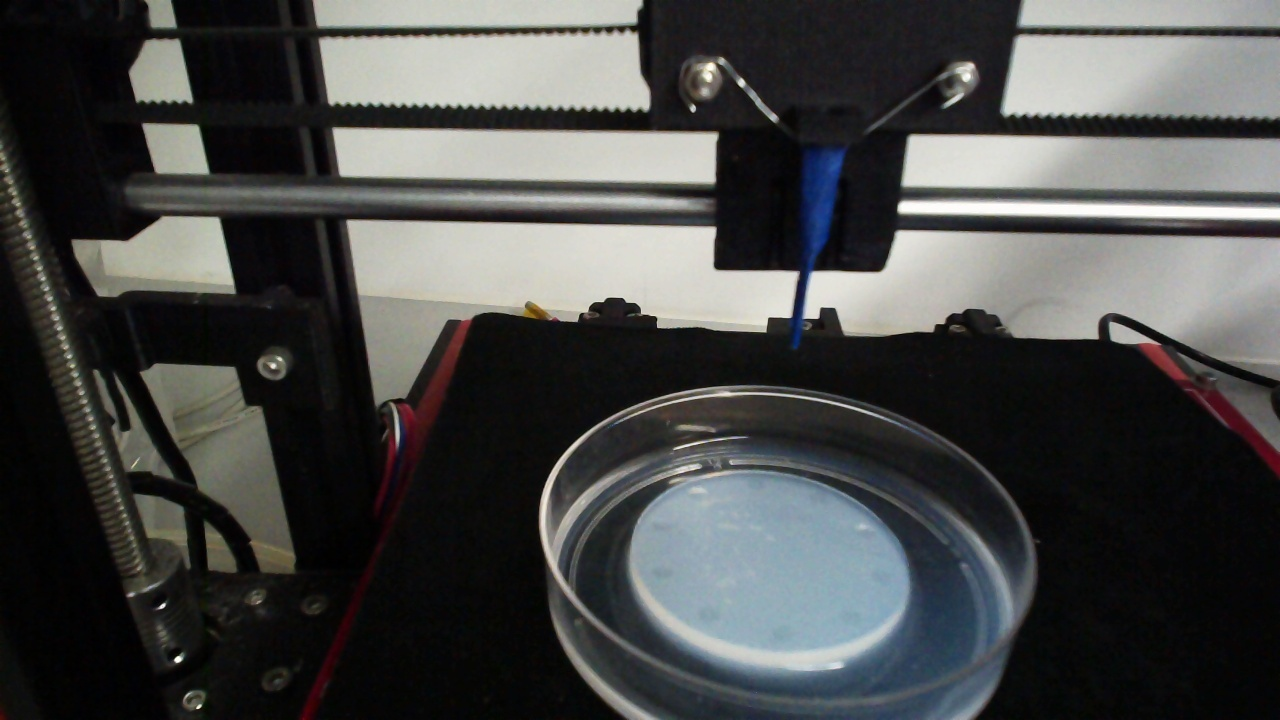groove: (696, 605, 723, 624), (770, 625, 796, 644), (648, 515, 675, 533), (836, 607, 861, 626), (650, 564, 675, 582), (869, 565, 892, 584), (808, 490, 831, 505), (745, 477, 768, 491), (686, 484, 706, 500), (854, 524, 875, 539)
needle: (791, 150, 844, 351)
